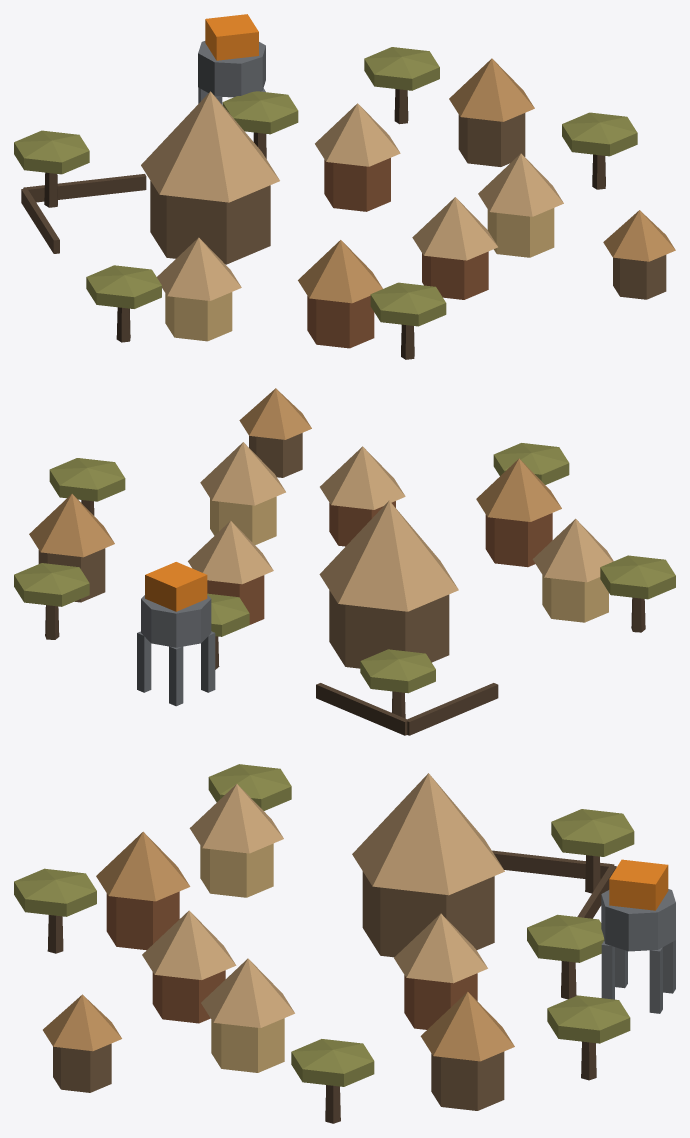
File: overworld-settlement-african-rural.glb
3 renders of one model, top to bottom at view 1: azimuth 30°, elevation 25°; view 2: azimuth 150°, elevation 25°; view 3: azimuth 270°, elevation 25°, orthographic. The views are drawn at different scales.
Parts seen in each view (by area): view 1: settlement; view 2: settlement; view 3: settlement.
Boxes of the visible parts, box(x1,y1,x2,y2) form: settlement: box(14, 14, 675, 359); settlement: box(14, 388, 675, 735); settlement: box(14, 764, 675, 1123).
Size of the model in its own units: 0.5318 by 0.13 by 0.4803.
